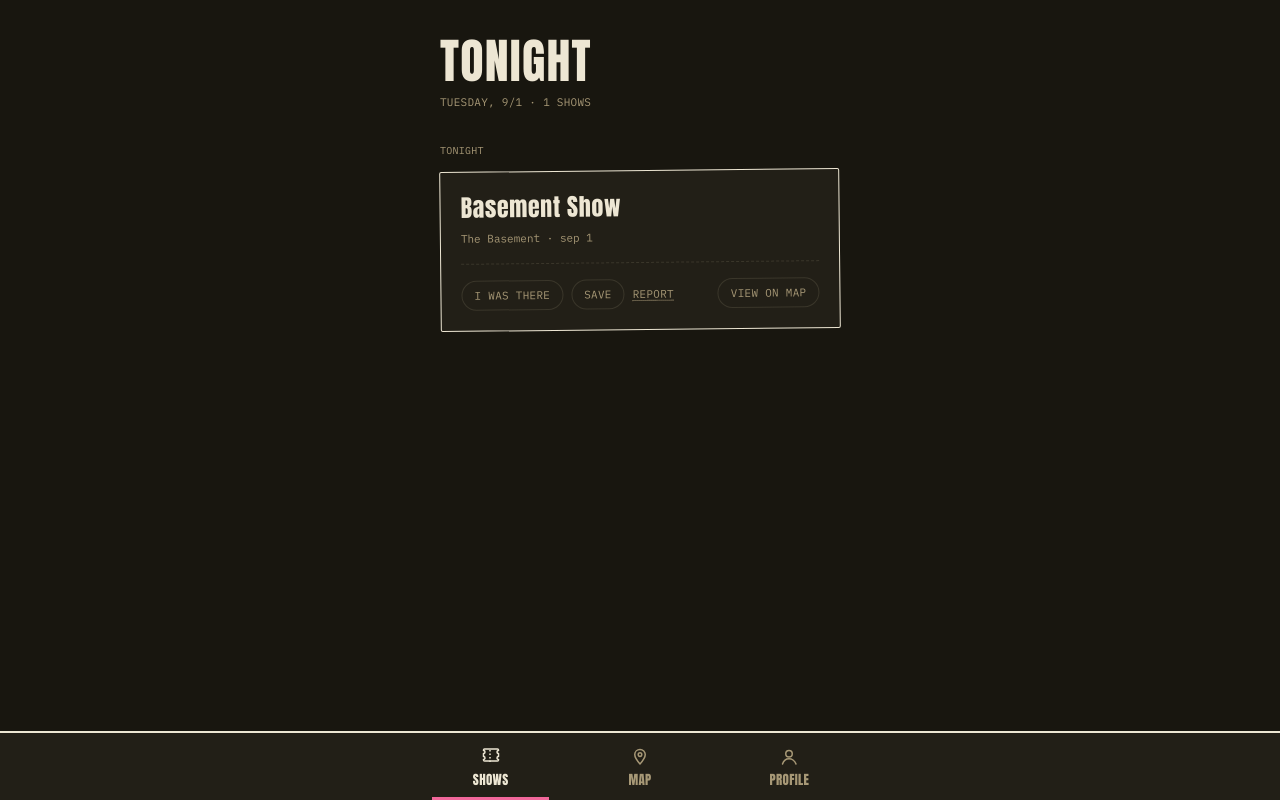
HomeBrowser attendance ('I Was There') › shows a retryable message when the GPS proximity check fails
What coordinates should you click on to do the following:
click the button "i was there"
I would click on:
 (512, 295)
Its box is [461,279,563,311].
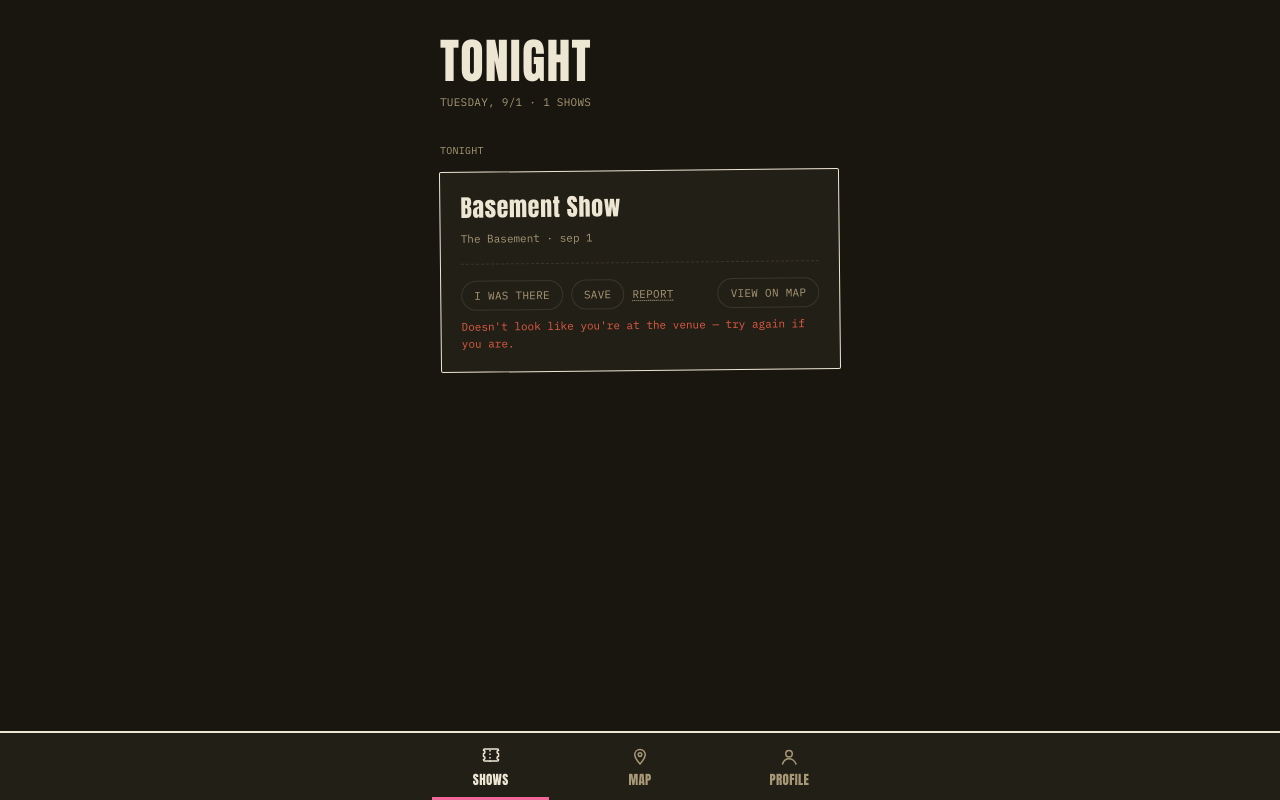
expect the text "Doesn't look like you're at the venue" is shown: met, box [462,316,805,350]
